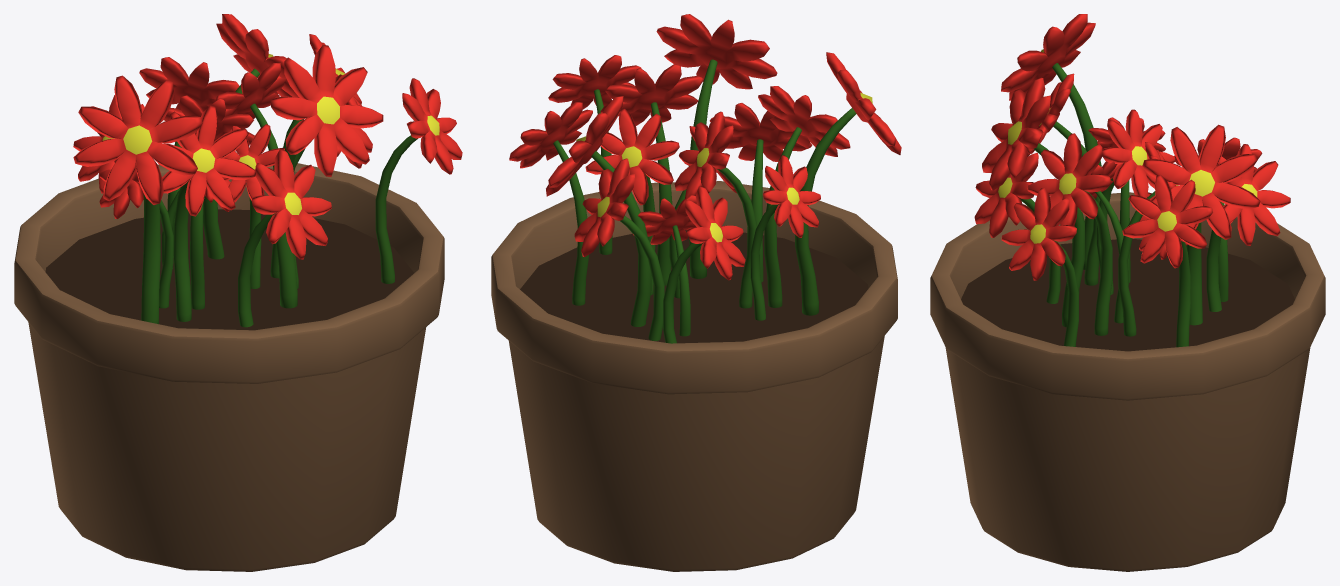
The model's file is flowerpot.glb.
3 views of the same model, side by side, from view 1: azimuth 30°, elevation 25°; view 2: azimuth 150°, elevation 25°; view 3: azimuth 270°, elevation 25° (orthographic). The views are drawn at different scales.
Visible parts, largest first — view 1: Pot, Flower.003, Flower.007, Flower.001, Flower.013, Flower.015, Flower.011, Flower.004, Flower.009, Flower.008, Flower.006, Flower.002 (+1 smaller); view 2: Pot, Flower.007, Flower.009, Flower.012, Flower.001, Flower.005, Flower.004, Flower.003, Flower.008, Flower.014, Flower.002, Flower.011 (+4 smaller); view 3: Pot, Flower.011, Flower.014, Flower.005, Flower.007, Flower.015, Flower.003, Flower.009, Flower.004, Flower.013, Flower.001, Flower.008 (+3 smaller).
Part boxes in pixels (x1,y1,x2,y2): Pot: (14, 163, 444, 571); Flower.003: (73, 75, 202, 324); Flower.007: (270, 45, 383, 308); Flower.001: (162, 105, 255, 321); Flower.013: (238, 149, 331, 327); Flower.015: (375, 78, 462, 283); Flower.011: (203, 14, 299, 259); Flower.004: (163, 95, 254, 309); Flower.009: (139, 57, 239, 255); Flower.008: (216, 63, 286, 278); Flower.006: (221, 124, 285, 288); Flower.002: (99, 158, 173, 308); Pot: (491, 181, 897, 571); Flower.007: (656, 14, 777, 278); Flower.009: (574, 158, 664, 340); Flower.012: (663, 186, 745, 343); Flower.001: (758, 86, 850, 307); Flower.005: (600, 64, 703, 285); Flower.004: (674, 111, 757, 308); Flower.003: (795, 52, 901, 315); Flower.008: (585, 109, 679, 295); Flower.014: (509, 102, 592, 305); Flower.002: (750, 155, 820, 320); Flower.011: (546, 96, 651, 326); Pot: (930, 192, 1325, 571); Flower.011: (1142, 124, 1260, 325); Flower.014: (1122, 175, 1212, 347); Flower.005: (1027, 133, 1112, 335); Flower.007: (982, 77, 1084, 327); Flower.015: (1001, 188, 1078, 346); Flower.003: (1001, 14, 1101, 269); Flower.009: (1206, 144, 1290, 311); Flower.004: (1096, 109, 1175, 294); Flower.013: (974, 152, 1060, 303); Flower.001: (1027, 73, 1099, 285); Flower.008: (1118, 142, 1177, 336).
Size of the model in its own units: 0.7637 by 0.9186 by 0.7561.
